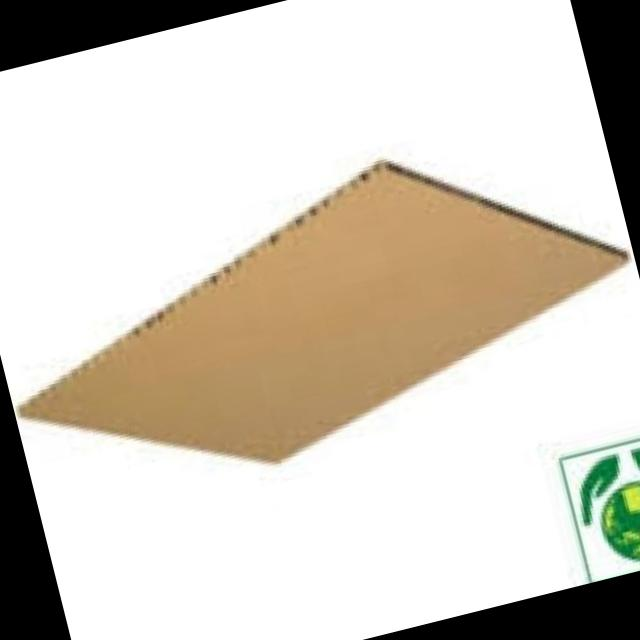cardboard paper: (20, 164, 627, 462)
